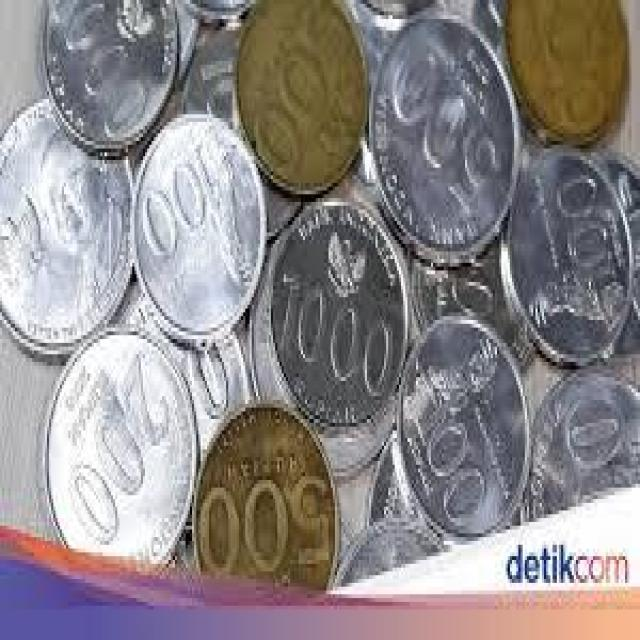500-silver: (373, 9, 528, 272)
